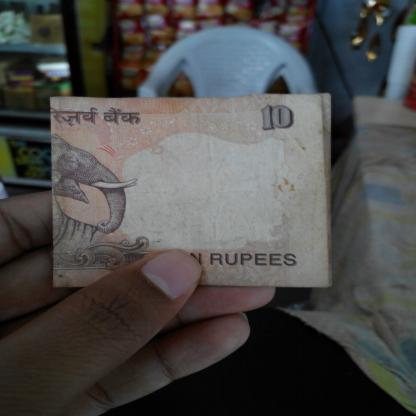Old10Back: (48, 92, 336, 290)
